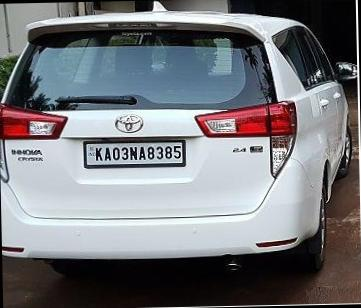plate: (79, 125, 199, 186)
